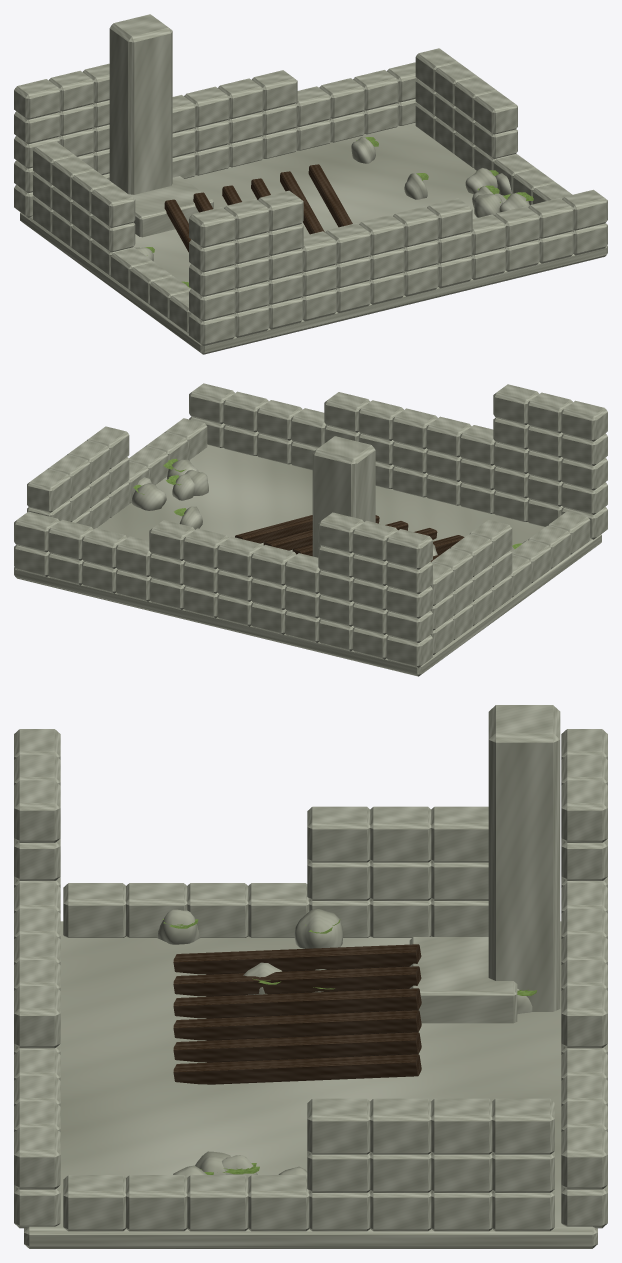
File: ruined_homestead.glb
3 renders of one model, top to bottom at view 1: azimuth 30°, elevation 25°; view 2: azimuth 150°, elevation 25°; view 3: azimuth 270°, elevation 25°, orthographic. The views are drawn at different scales.
Parts seen in each view (by area): view 1: ruined_homestead; view 2: ruined_homestead; view 3: ruined_homestead.
Part boxes in pixels (bbox=[...]): ruined_homestead: bbox=[14, 14, 607, 354]; ruined_homestead: bbox=[14, 383, 607, 676]; ruined_homestead: bbox=[14, 705, 607, 1248].
Bounding box in the file's own units: 8.27 × 3.65 × 6.62.
1 material, 1 textured.
